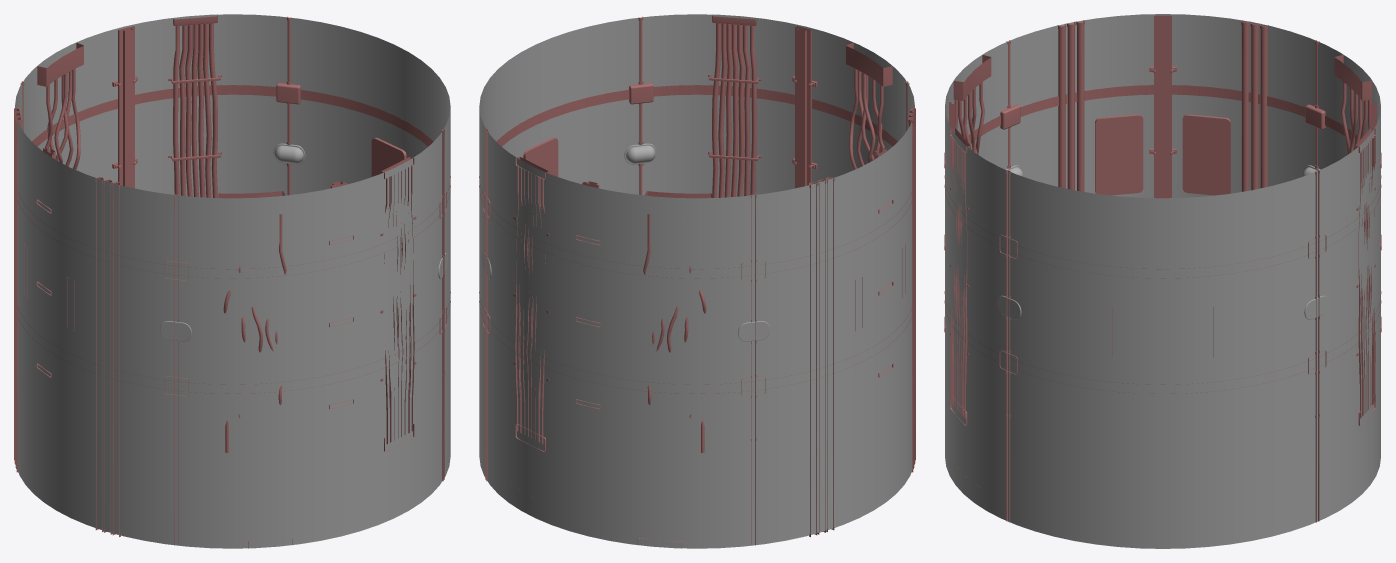
File: ShaftSectionUnic.fbx
3 views of the same model, side by side, from view 1: azimuth 30°, elevation 25°; view 2: azimuth 150°, elevation 25°; view 3: azimuth 270°, elevation 25° (orthographic).
Visible parts, largest first — view 1: ShaftSectionUnic; view 2: ShaftSectionUnic; view 3: ShaftSectionUnic.
Boxes of the visible parts, left/top/right/bottom form: ShaftSectionUnic: left=14, top=14, right=450, bottom=548; ShaftSectionUnic: left=479, top=14, right=915, bottom=548; ShaftSectionUnic: left=944, top=14, right=1381, bottom=548.
Bounding box in the file's own units: 712 × 634 × 713.
